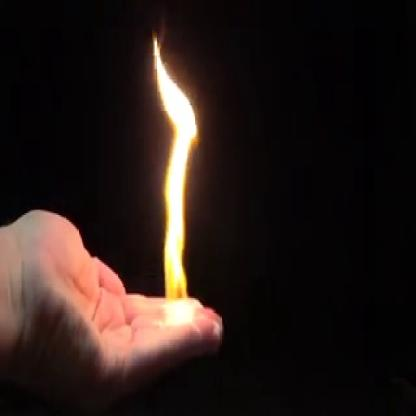fire: (146, 29, 199, 334)
